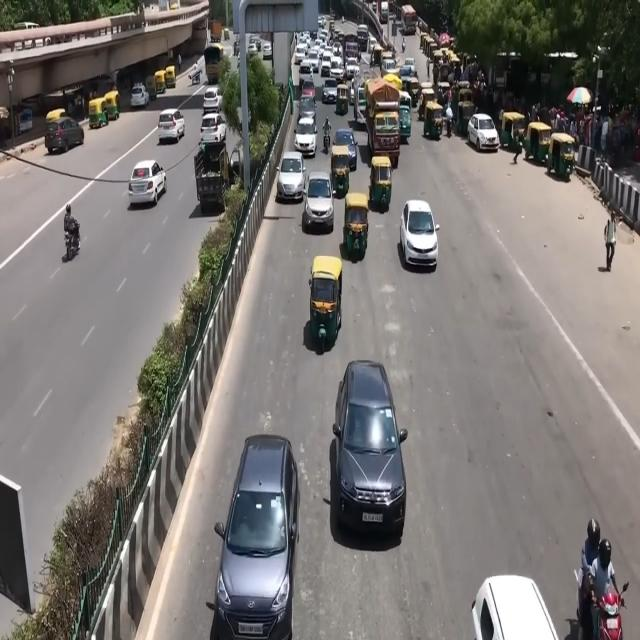auto: (308, 255, 343, 346), (342, 191, 370, 259), (547, 132, 576, 180), (369, 155, 393, 209), (500, 110, 528, 153), (525, 120, 551, 164), (331, 145, 352, 198), (457, 97, 478, 139), (422, 100, 443, 140), (418, 82, 436, 120), (398, 93, 412, 141), (88, 97, 109, 128), (102, 90, 121, 122), (404, 76, 422, 109), (335, 83, 349, 116), (145, 75, 158, 101), (154, 70, 167, 95), (165, 66, 176, 89)
bike-auto: (588, 540, 622, 638), (64, 203, 80, 258), (322, 128, 330, 154), (446, 111, 452, 138), (356, 48, 362, 64), (402, 38, 406, 53)
